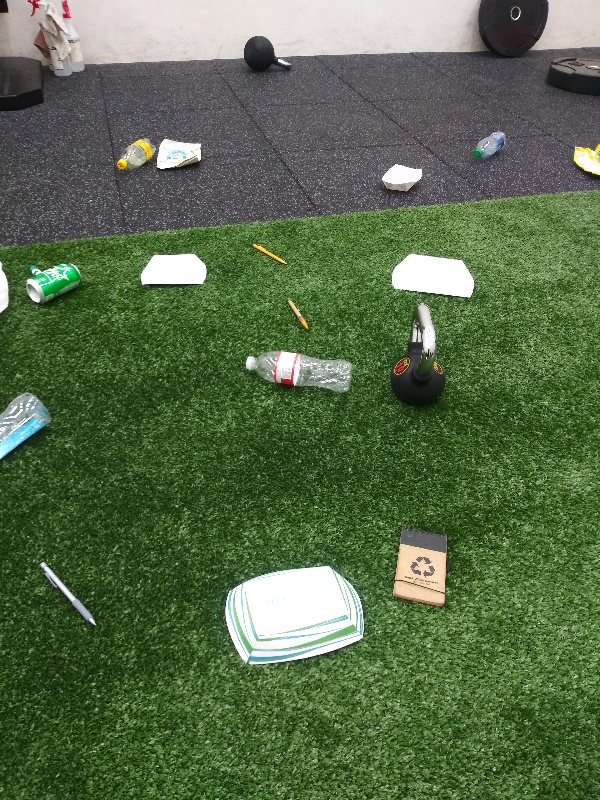bag: (151, 129, 204, 176), (567, 135, 600, 185)
bottle: (238, 349, 355, 398), (1, 387, 51, 472), (108, 131, 164, 175), (469, 127, 510, 163)
can: (23, 254, 89, 308)
plate: (216, 564, 369, 672), (386, 253, 476, 301), (137, 249, 207, 290), (373, 160, 428, 200), (1, 262, 19, 313)
